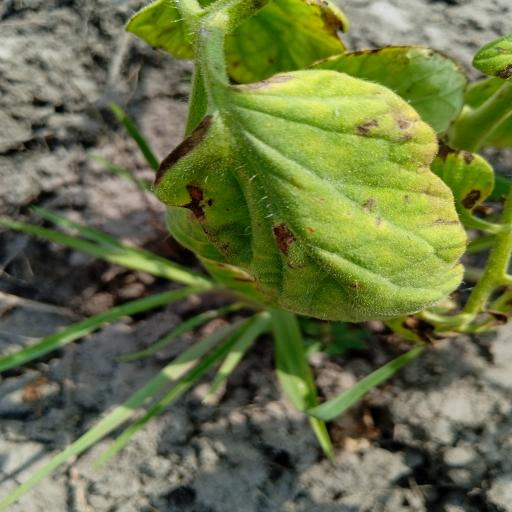Tomato_Brown_Spots: (148, 66, 472, 326)
